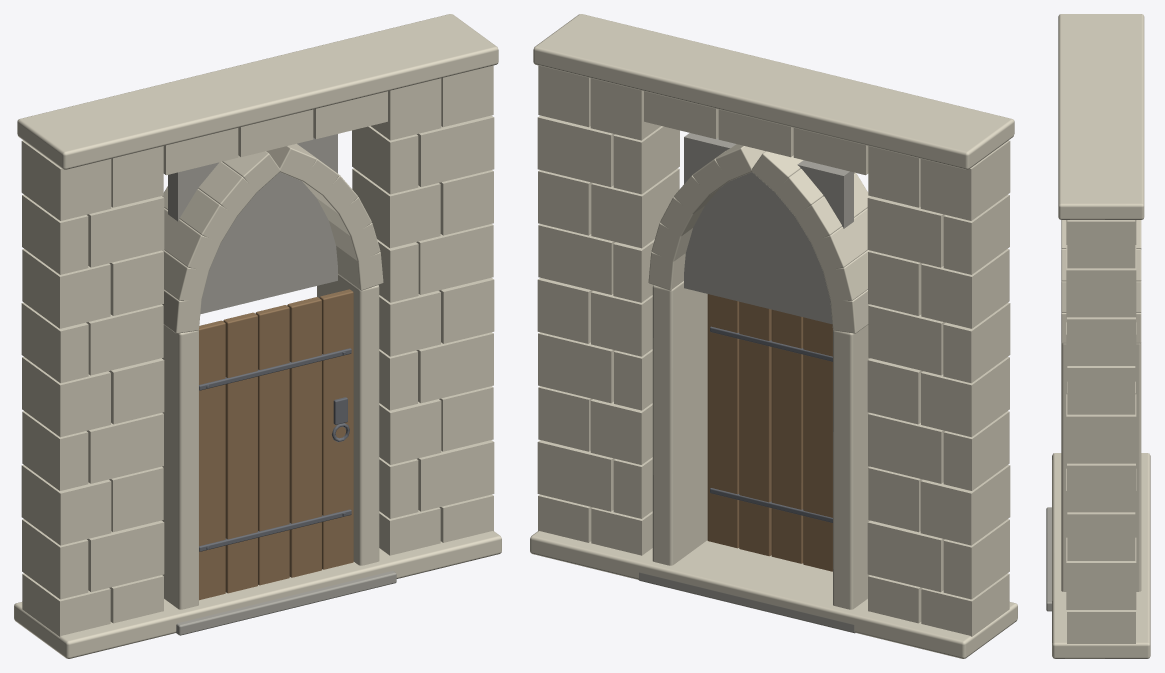
File: medieval-monastery-and-scriptorium-monastery-door-bay-a5edad0f.glb
3 views of the same model, side by side, from view 1: azimuth 30°, elevation 25°; view 2: azimuth 150°, elevation 25°; view 3: azimuth 270°, elevation 25° (orthographic). The views are drawn at different scales.
Parts seen in each view (by area): view 1: monastery-door-bay, door-range/oak, door-range/iron; view 2: monastery-door-bay, door-range/oak, door-range/iron; view 3: monastery-door-bay.
Part boxes in pixels (left/top/right/bottom): monastery-door-bay: left=14, top=14, right=501, bottom=658; door-range/oak: left=199, top=289, right=353, bottom=600; door-range/iron: left=199, top=348, right=351, bottom=551; monastery-door-bay: left=530, top=14, right=1017, bottom=658; door-range/oak: left=707, top=294, right=832, bottom=571; door-range/iron: left=710, top=326, right=832, bottom=522; monastery-door-bay: left=1046, top=14, right=1150, bottom=658.
Bounding box in the file's own units: 3 × 3.32 × 0.6898.
